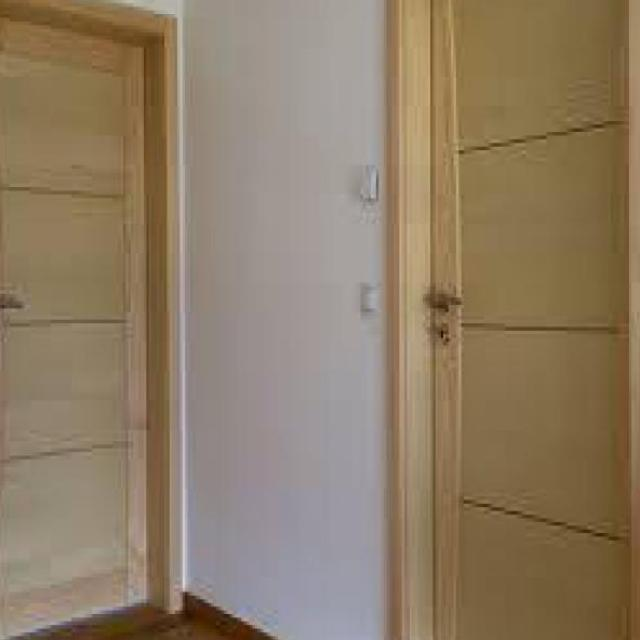door: (425, 0, 635, 638), (0, 16, 158, 634)
